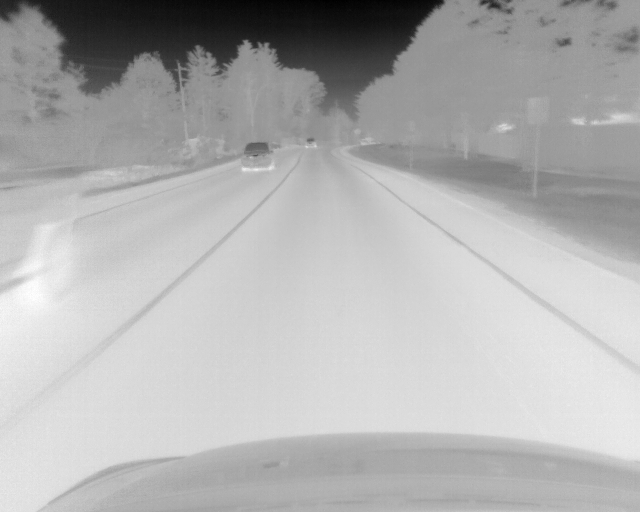car: (1, 176, 82, 303), (242, 142, 275, 172), (305, 137, 317, 149)
